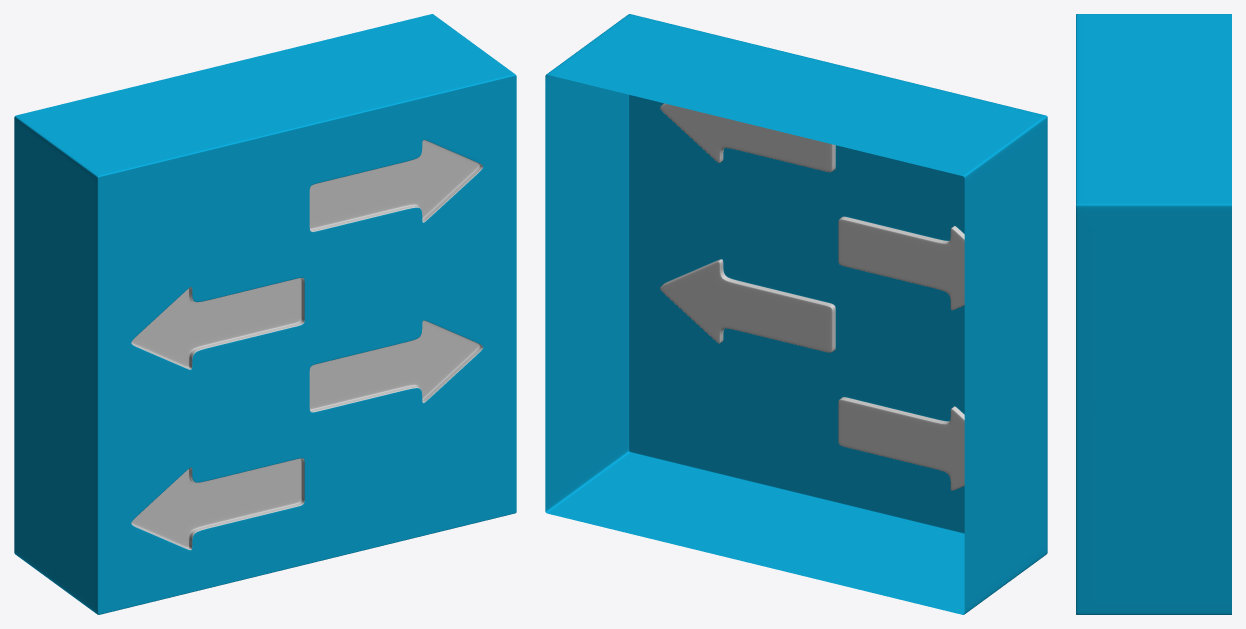
File: generic_switch.glb
3 views of the same model, side by side, from view 1: azimuth 30°, elevation 25°; view 2: azimuth 150°, elevation 25°; view 3: azimuth 270°, elevation 25° (orthographic). The views are drawn at different scales.
Parts seen in each view (by area): view 1: Switch; view 2: Switch; view 3: Switch.
Boxes of the visible parts, x1=… form: Switch: x1=14, y1=14, x2=516, y2=614; Switch: x1=545, y1=14, x2=1047, y2=614; Switch: x1=1076, y1=14, x2=1231, y2=614.
Size of the model in its own units: 0.8598 by 0.8598 by 0.296.
